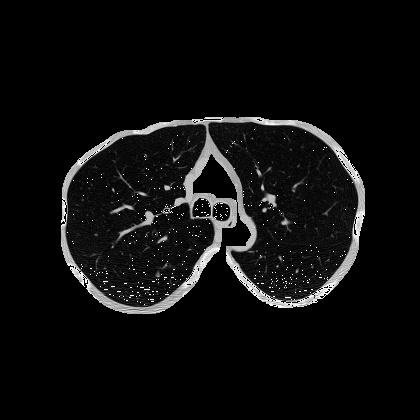PN: (155, 272, 159, 276)
